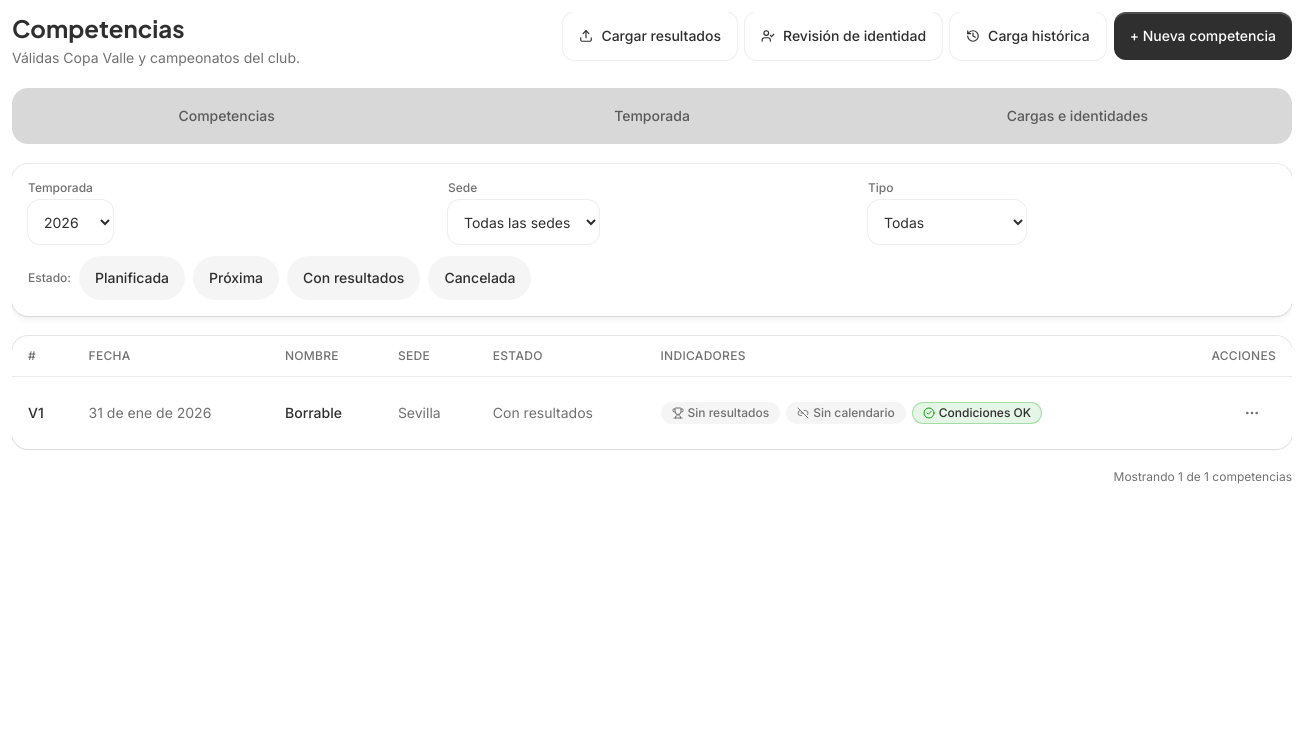
Test: CompetitionsListPage — RBAC kebab › para admin: 'Eliminar' aparece en kebab cuando el item se puede borrar
Expected: the link "Borrable" is shown, [285, 404, 342, 421]
Click the button named "Acciones para Borrable".
click(1252, 413)  # box [1228, 389, 1276, 437]
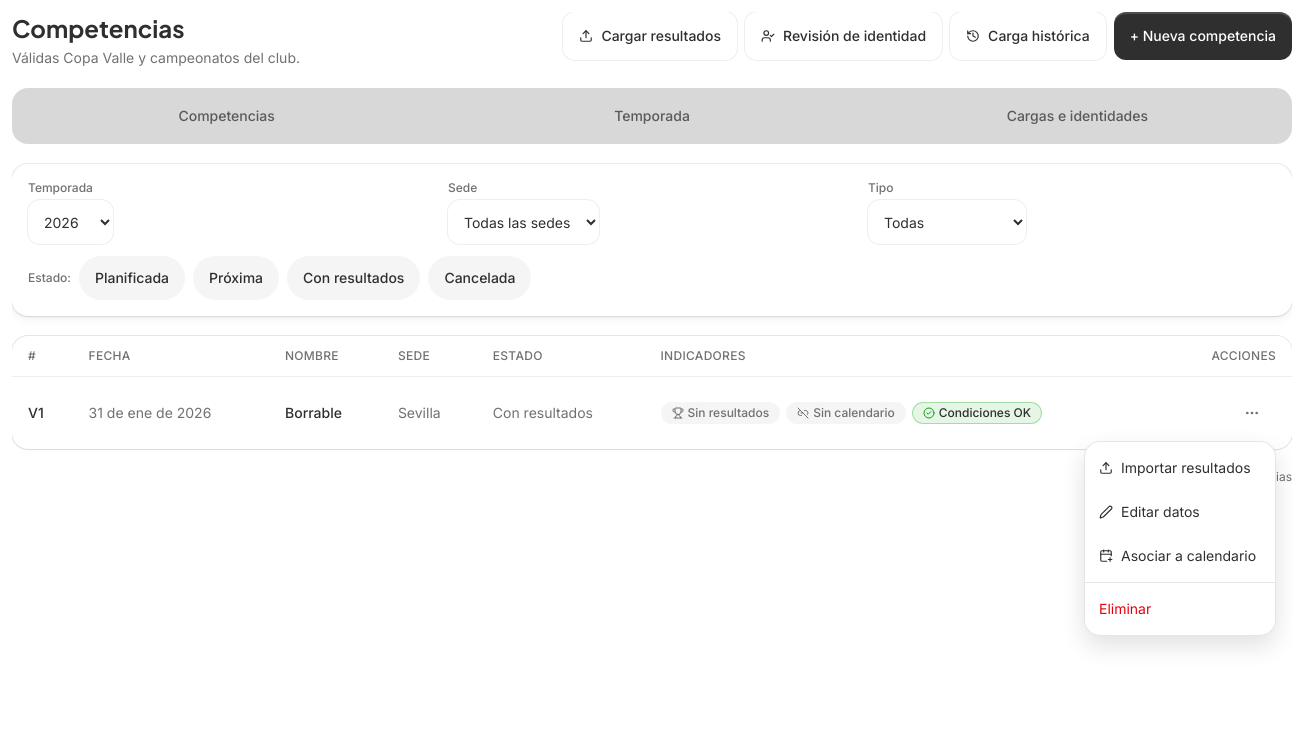
Result: the menu item "Eliminar" is shown at [1099, 600, 1151, 617]
